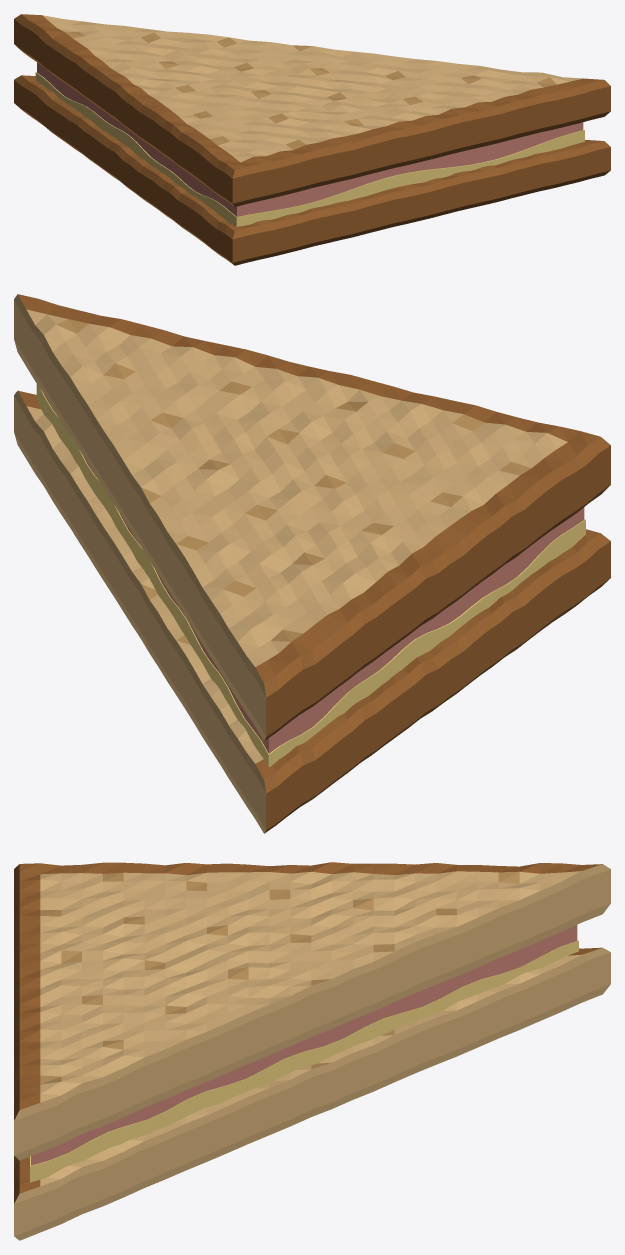
3 renders of one model, top to bottom at view 1: azimuth 30°, elevation 25°; view 2: azimuth 150°, elevation 25°; view 3: azimuth 270°, elevation 25°, orthographic. The views are drawn at different scales.
Visible parts, largest first — view 1: NEW326_top_bread, NEW326_bottom_bread, NEW326_filling, NEW326_cheese; view 2: NEW326_top_bread, NEW326_bottom_bread, NEW326_cheese, NEW326_filling; view 3: NEW326_top_bread, NEW326_bottom_bread, NEW326_cheese, NEW326_filling.
Boxes of the visible parts, x1,y1,x2,y2 form: NEW326_top_bread: (14, 14, 610, 206); NEW326_bottom_bread: (14, 75, 610, 265); NEW326_filling: (37, 62, 583, 216); NEW326_cheese: (35, 72, 584, 226); NEW326_top_bread: (14, 294, 610, 740); NEW326_bottom_bread: (14, 390, 610, 833); NEW326_cheese: (36, 384, 585, 767); NEW326_filling: (43, 393, 584, 753); NEW326_top_bread: (14, 862, 610, 1160); NEW326_bottom_bread: (14, 947, 610, 1240); NEW326_cheese: (30, 940, 578, 1182); NEW326_filling: (31, 925, 577, 1165).
Bounding box in the file's own units: 0.11 × 0.0273 × 0.11.
